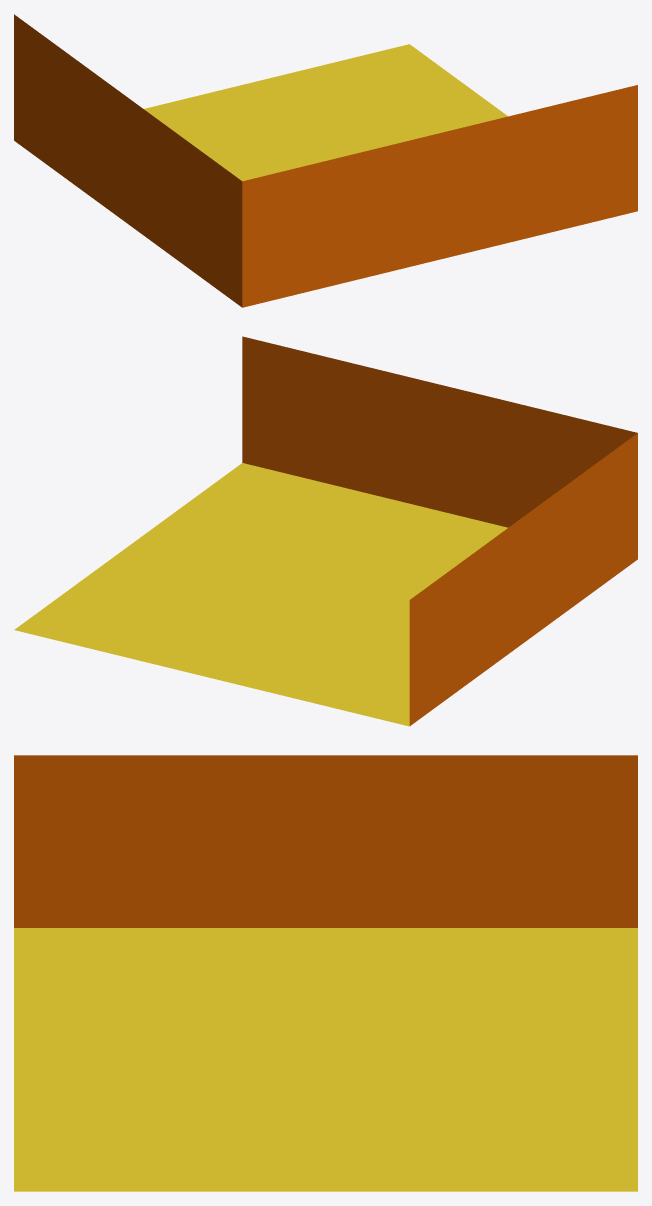
File: arkaplan.fbx
3 views of the same model, one above another, from view 1: azimuth 30°, elevation 25°; view 2: azimuth 150°, elevation 25°; view 3: azimuth 270°, elevation 25° (orthographic). The views are drawn at different scales.
Parts seen in each view (by area): view 1: Plane; view 2: Plane; view 3: Plane.
Part boxes in pixels (<box>): Plane: <box>14,14,637,307</box>; Plane: <box>14,336,637,726</box>; Plane: <box>14,755,637,1191</box>.
Size of the model in its own units: 2495 by 762 by 2495.
